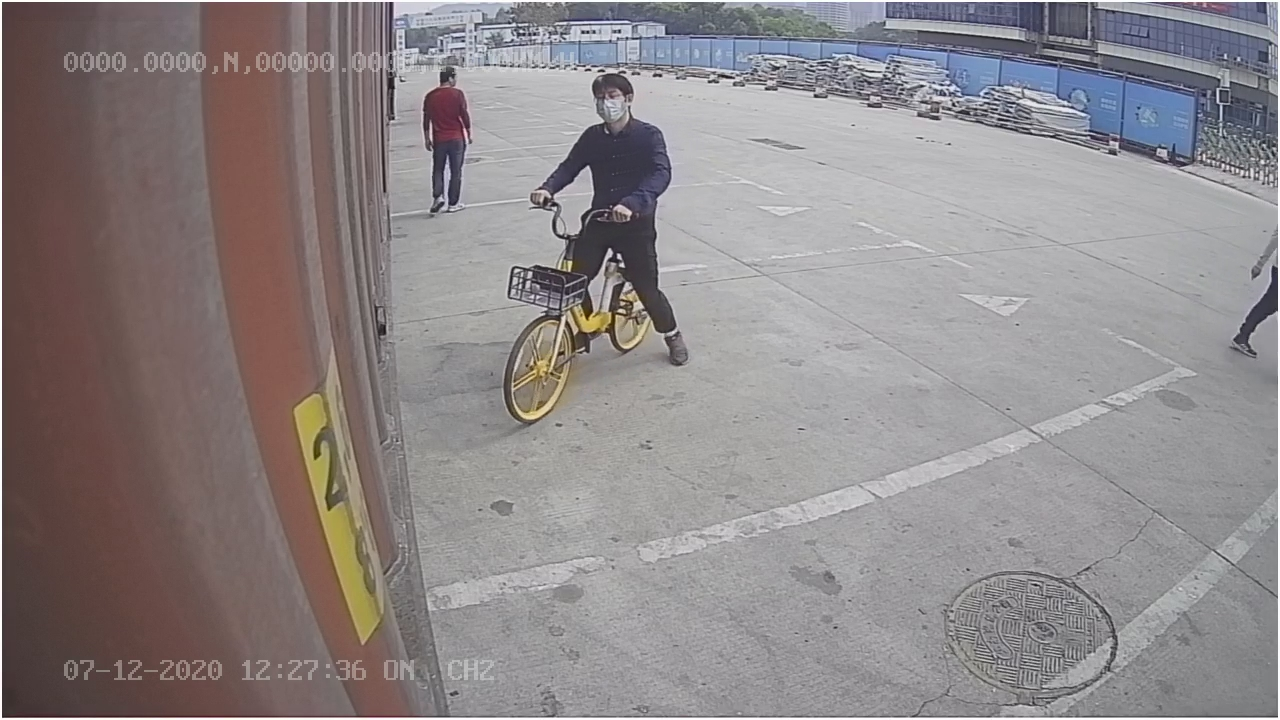person: (418, 64, 475, 217)
